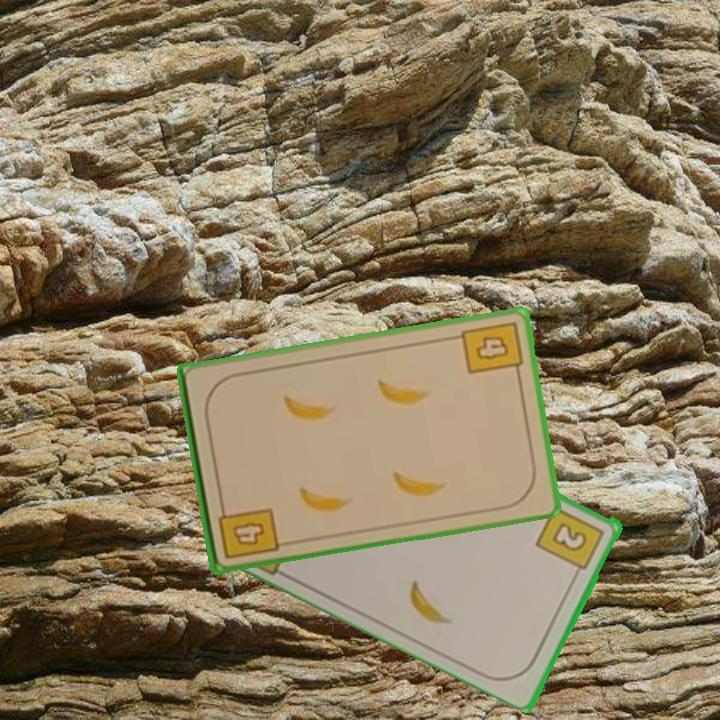2b: (533, 502, 608, 580)
4b: (458, 317, 525, 380), (214, 498, 281, 561)
